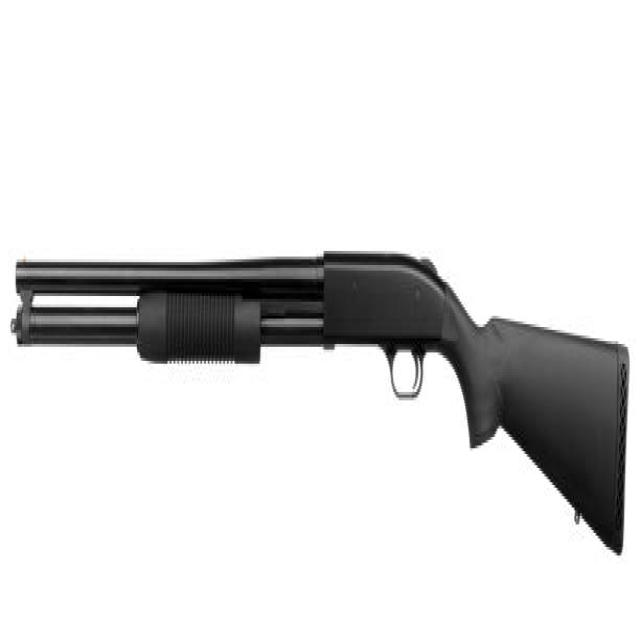rifle: (8, 233, 636, 576)
